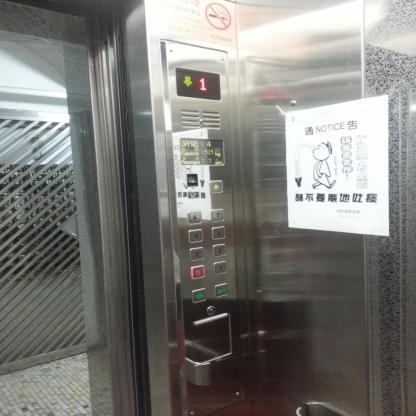1: (213, 260, 227, 275)
2: (188, 245, 204, 262)
3: (212, 243, 226, 258)
4: (188, 228, 204, 243)
5: (211, 225, 226, 241)
6: (186, 210, 202, 225)
7: (210, 208, 224, 223)
G: (190, 264, 205, 280)
alarm: (208, 180, 224, 194)
close: (214, 282, 228, 298)
keyhole: (206, 304, 216, 316)
led: (174, 65, 222, 102)
open: (191, 287, 207, 304)
